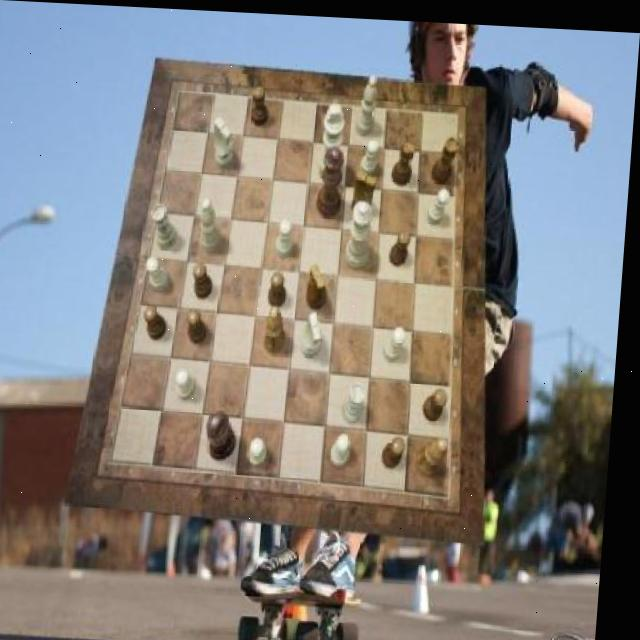bishop: (420, 432, 455, 472), (269, 304, 292, 352)
black-bishop: (211, 410, 244, 459)
black-king: (353, 167, 379, 216), (308, 261, 332, 307)
black-knight: (428, 383, 454, 418), (147, 302, 172, 337), (386, 432, 411, 465), (196, 261, 218, 298), (392, 226, 414, 263), (189, 307, 212, 342), (252, 84, 271, 123), (272, 269, 291, 305)
black-pawn: (317, 143, 346, 216)
black-queen: (432, 132, 461, 180), (392, 134, 418, 182)
black-rook: (201, 196, 226, 251), (356, 70, 378, 132)
white-bishop: (319, 99, 347, 180)
white-king: (213, 114, 239, 165), (306, 309, 329, 355)
white-knight: (387, 321, 412, 357), (148, 256, 173, 291), (429, 184, 452, 221), (335, 430, 357, 465), (278, 217, 298, 255), (361, 134, 381, 172), (180, 367, 202, 400), (254, 435, 274, 463)
white-pawn: (347, 198, 376, 266)
white-queen: (151, 202, 181, 249), (348, 378, 373, 421)
